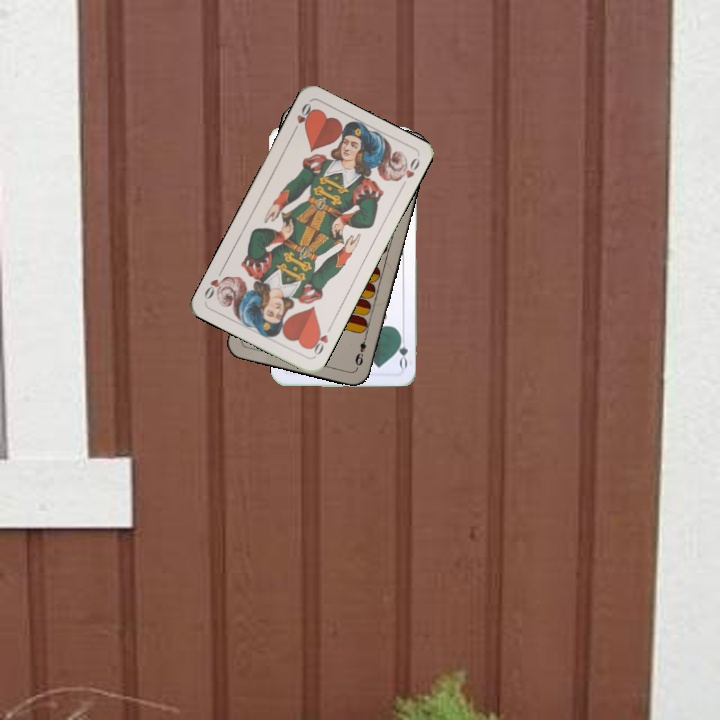E9: (351, 330, 370, 370)
GO: (394, 330, 410, 370)
HO: (306, 321, 334, 359), (289, 99, 316, 136)
